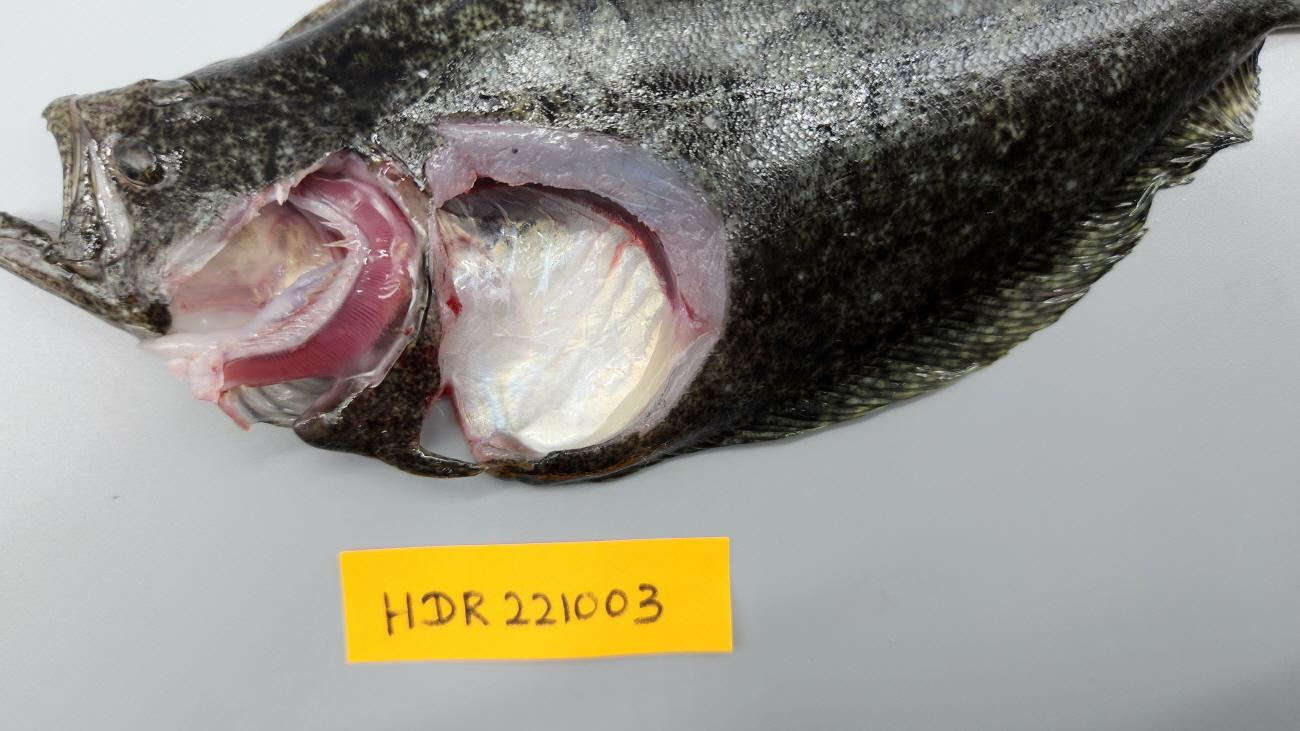POASN: (438, 187, 664, 456)
